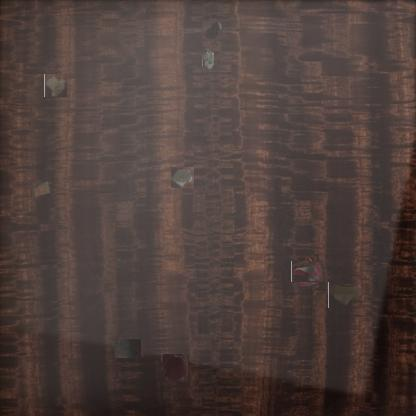dirty: (328, 282, 361, 308), (294, 258, 322, 285), (117, 336, 140, 360), (44, 74, 68, 97), (170, 166, 194, 188), (32, 180, 52, 198), (202, 49, 214, 69)
liquid: (162, 355, 188, 381), (202, 22, 222, 42)
